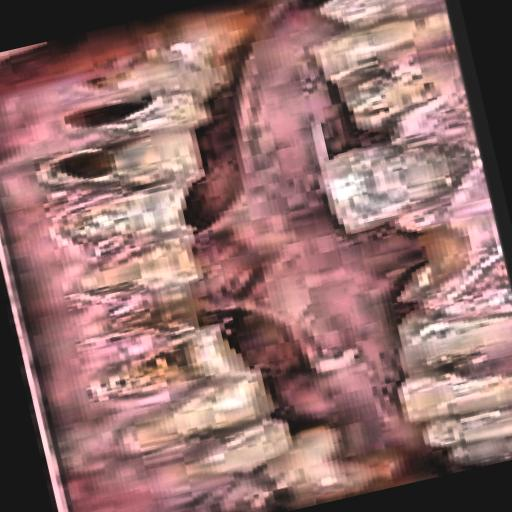Caries: (23, 22, 204, 213)
